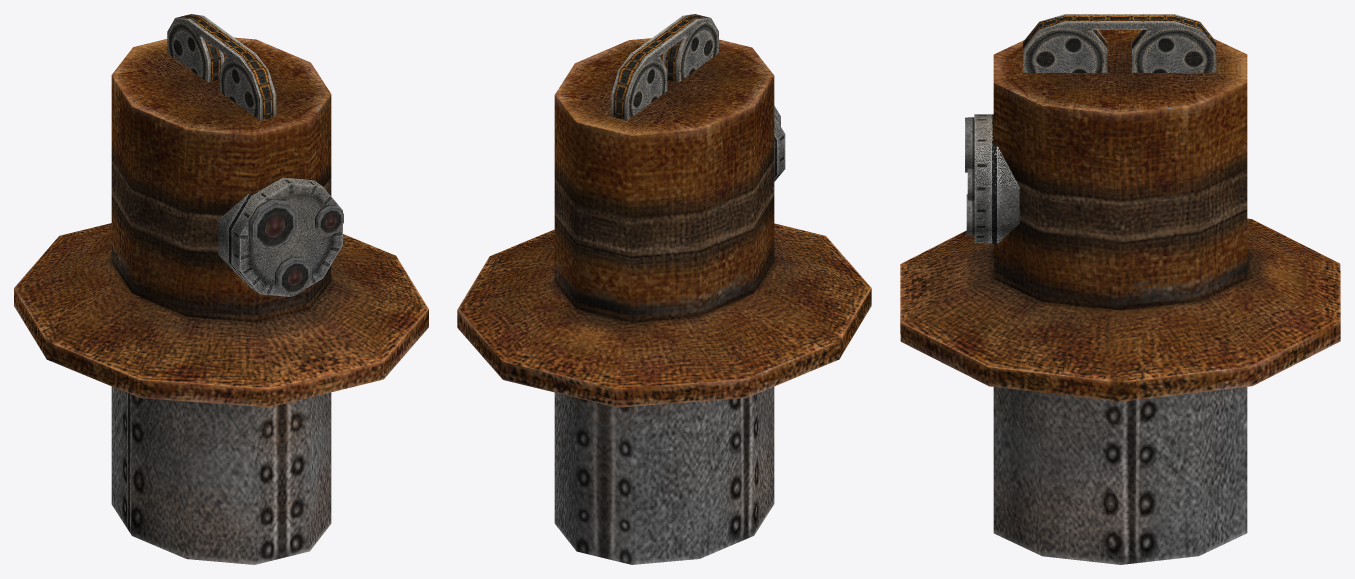
The model's file is HEAD_CAMERA_HAT.fbx.
The picture shows the model from 3 angles, left to right: view 1: azimuth 30°, elevation 25°; view 2: azimuth 150°, elevation 25°; view 3: azimuth 270°, elevation 25°; orthographic projection. The views are drawn at different scales.
Visible parts, largest first — view 1: head_Camera_Hat; view 2: head_Camera_Hat; view 3: head_Camera_Hat.
Part boxes in pixels (x1,y1,x2,y2): head_Camera_Hat: [14, 14, 428, 564]; head_Camera_Hat: [457, 14, 871, 564]; head_Camera_Hat: [900, 14, 1340, 564].
Bounding box in the file's own units: 0.015 × 0.0195 × 0.0156.
